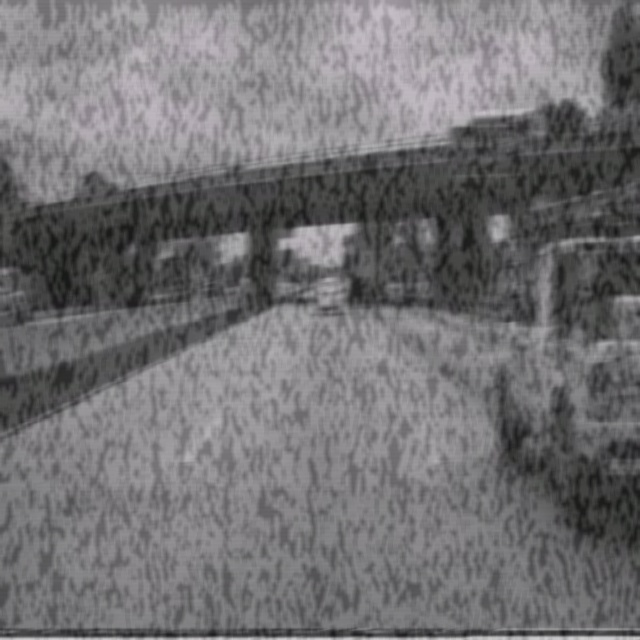speedLimit65: (506, 229, 522, 264)
